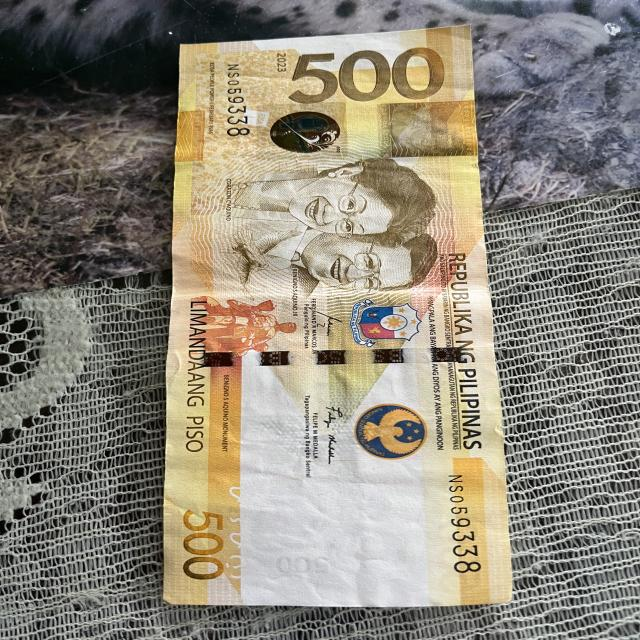concealed_value: (373, 100, 478, 157)
optically_variable_device: (257, 104, 349, 160)
security_thread: (166, 347, 495, 368)
see_through_mark: (222, 482, 255, 583)
serial_number: (444, 467, 494, 589), (223, 61, 255, 145)
value: (286, 44, 445, 103)
value_watermark: (270, 552, 331, 576)
